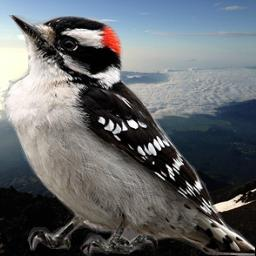Woodpecker: (2, 15, 255, 256)
